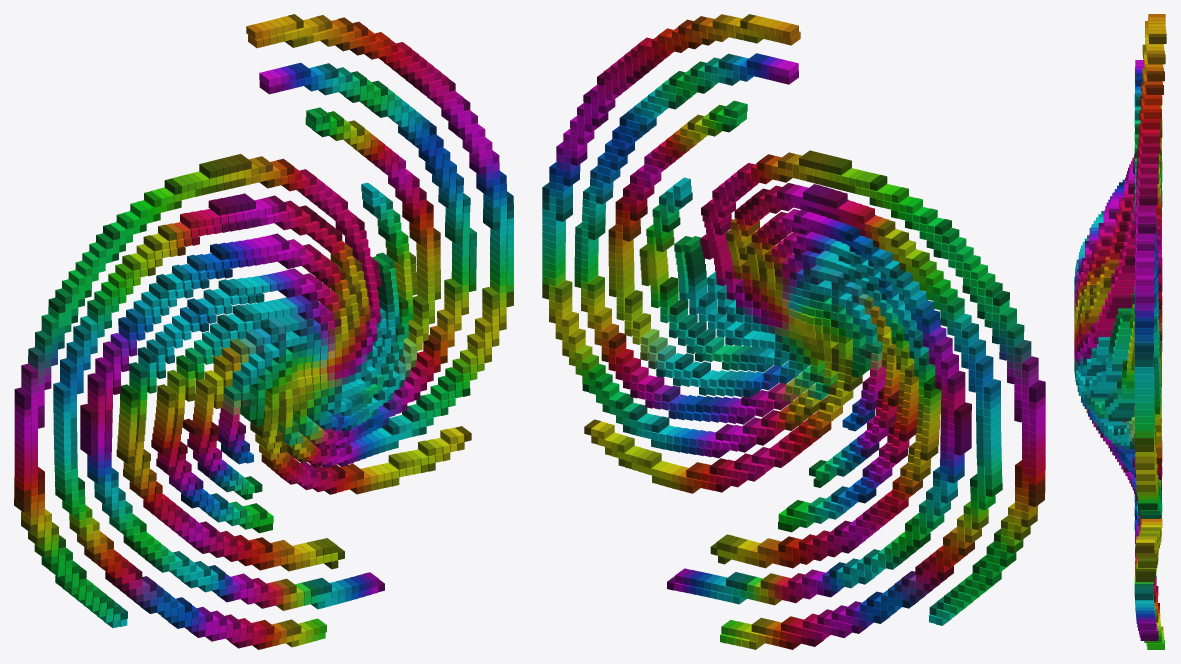
File: spiral-lite.glb
3 views of the same model, side by side, from view 1: azimuth 30°, elevation 25°; view 2: azimuth 150°, elevation 25°; view 3: azimuth 270°, elevation 25° (orthographic). The views are drawn at different scales.
Visible parts, largest first — view 1: Rainbow spiral relief; view 2: Rainbow spiral relief; view 3: Rainbow spiral relief.
Part boxes in pixels (x1,y1,x2,y2): Rainbow spiral relief: [14, 14, 513, 649]; Rainbow spiral relief: [542, 14, 1045, 649]; Rainbow spiral relief: [1074, 14, 1166, 649].
Size of the model in its own units: 4.94 by 6 by 0.8306.
